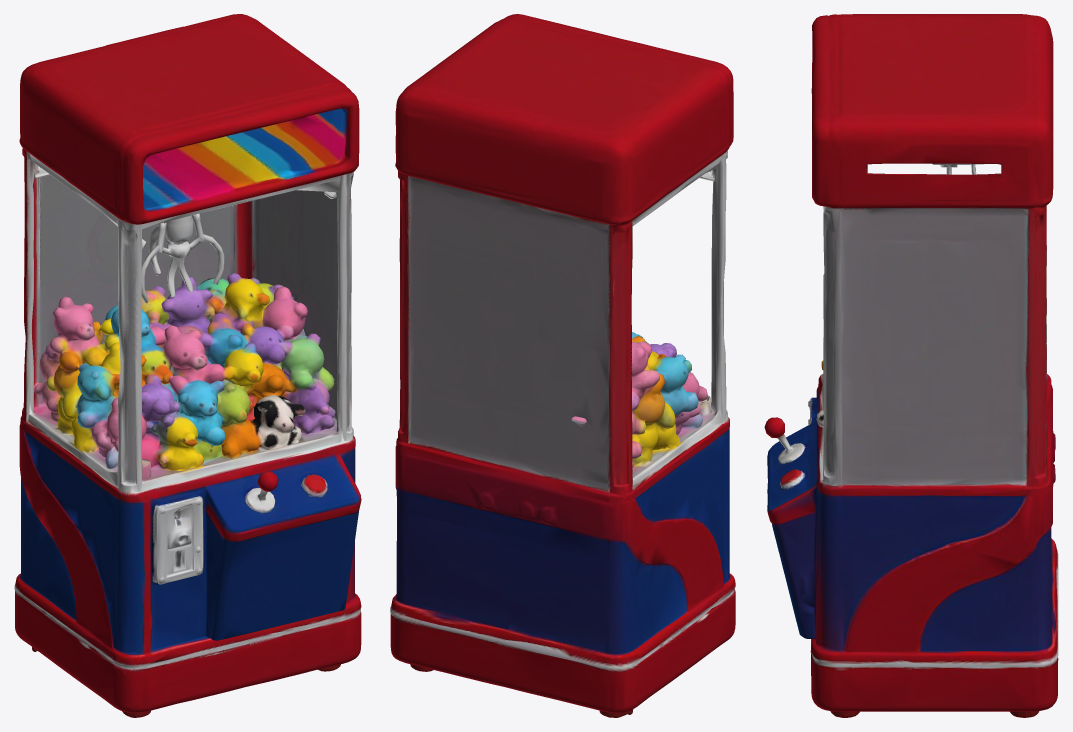
The model's file is claw-machine.glb.
The picture shows the model from 3 angles, left to right: view 1: azimuth 30°, elevation 25°; view 2: azimuth 150°, elevation 25°; view 3: azimuth 270°, elevation 25°; orthographic projection. The views are drawn at different scales.
Visible parts, largest first — view 1: tripo_node_0c4a3668-6982-48ca-91db-374251f173a2; view 2: tripo_node_0c4a3668-6982-48ca-91db-374251f173a2; view 3: tripo_node_0c4a3668-6982-48ca-91db-374251f173a2.
Boxes of the visible parts, bbox=[...] form: tripo_node_0c4a3668-6982-48ca-91db-374251f173a2: bbox=[14, 14, 361, 717]; tripo_node_0c4a3668-6982-48ca-91db-374251f173a2: bbox=[390, 14, 735, 717]; tripo_node_0c4a3668-6982-48ca-91db-374251f173a2: bbox=[764, 14, 1058, 717].
Size of the model in its own units: 0.43 by 0.9803 by 0.4354.
1 material, 1 textured.
